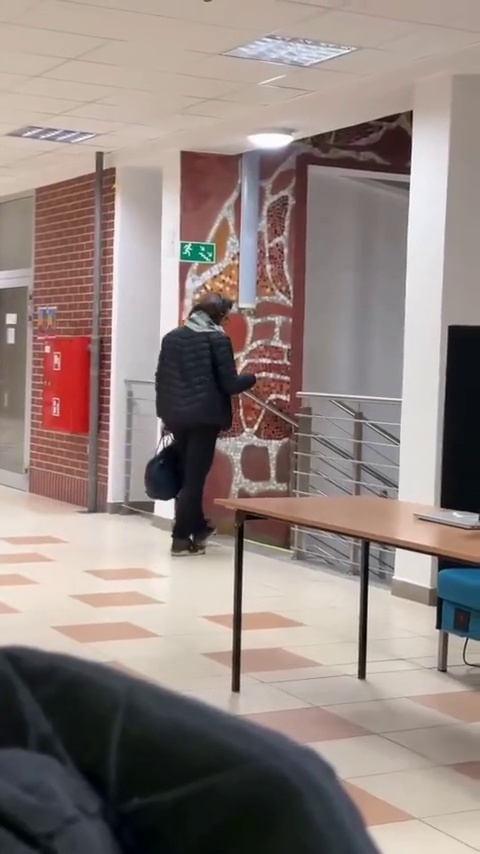no vest: (151, 291, 252, 554)
